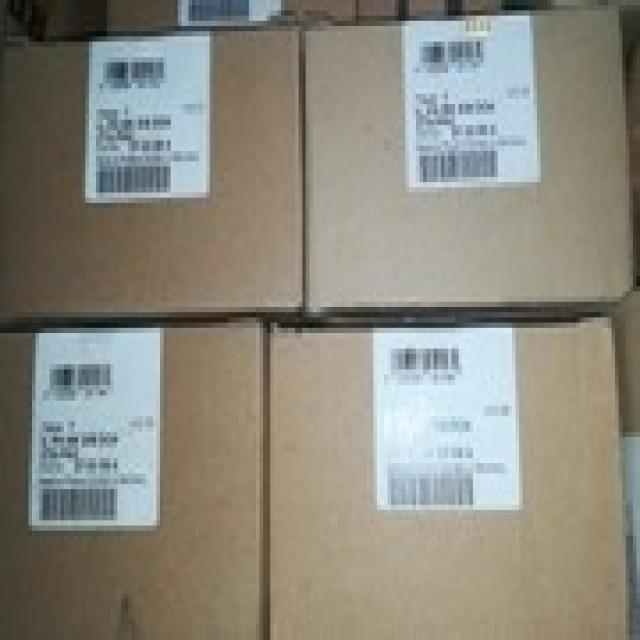box: (263, 314, 626, 635), (299, 8, 632, 320), (0, 29, 308, 328), (0, 318, 264, 635)
